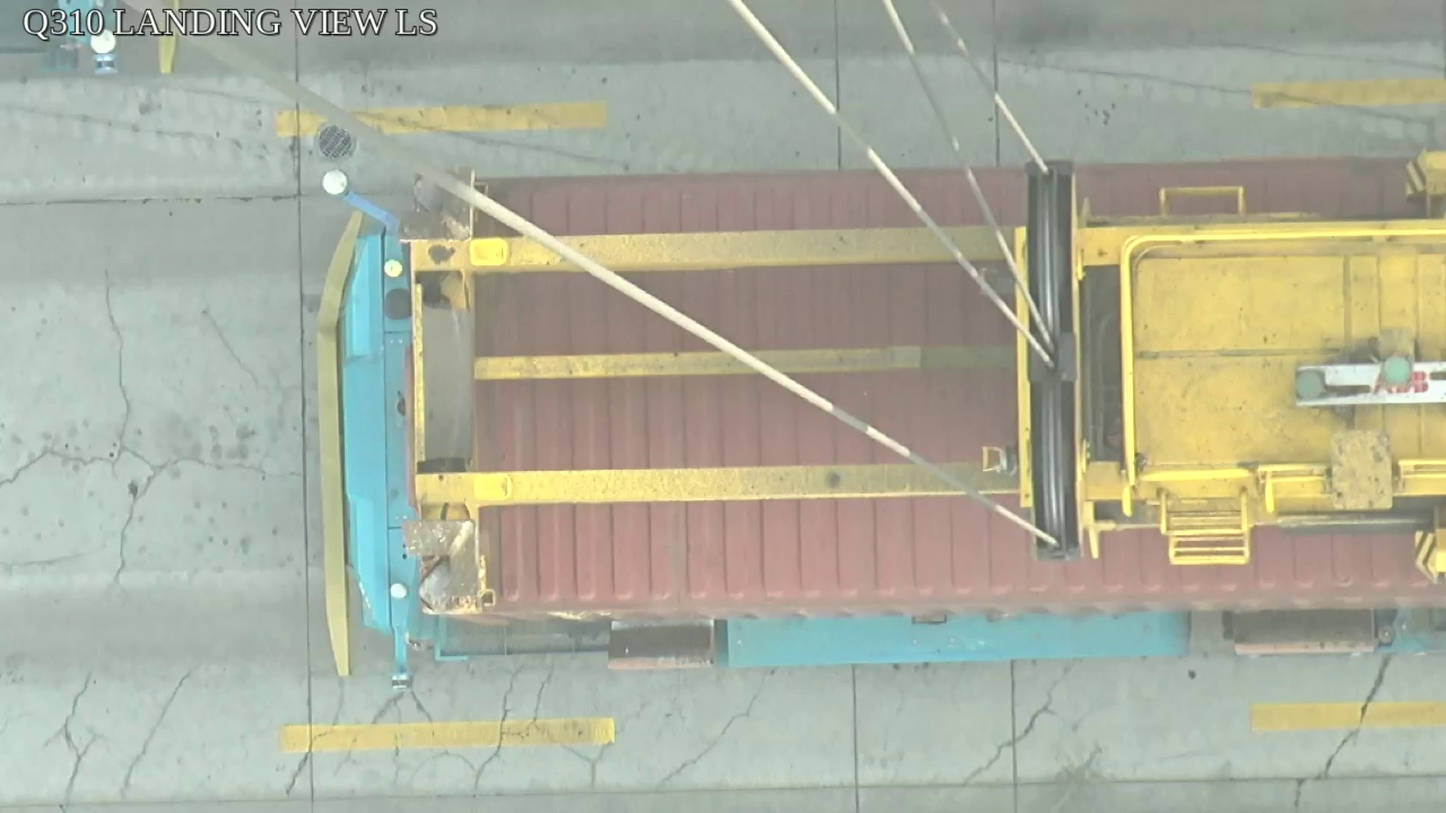aa: (1020, 164, 1090, 568)
